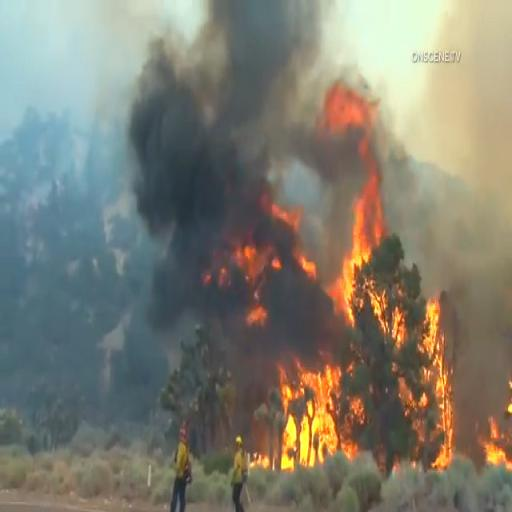fire: (312, 186, 392, 326), (401, 289, 461, 475), (276, 348, 348, 461), (481, 408, 512, 484)
smoke: (207, 0, 375, 146), (121, 36, 225, 254), (407, 95, 512, 218)
